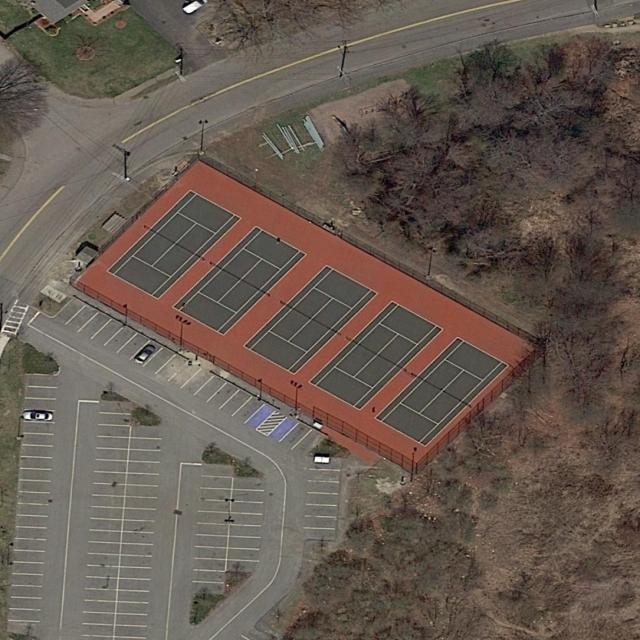small-vehicle: (132, 342, 162, 367), (21, 410, 55, 422)
